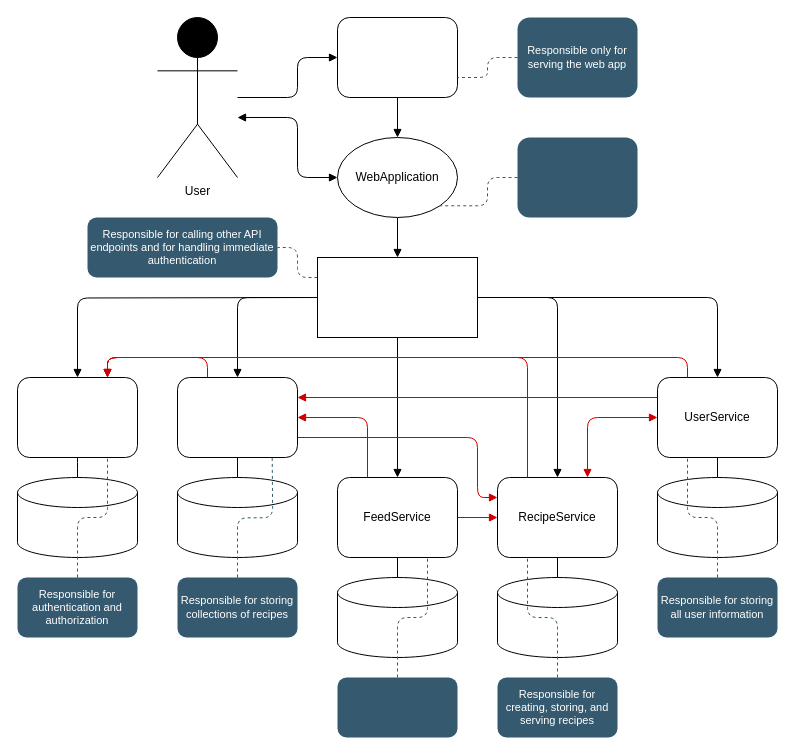
Image size: 795x755. Some labels were removed from this diagram. The shapes that lost their labels are listed below. From the top down, each one's centre as x and y in pixels, then its label:
At (397,57): "AppService".
At (577,177): "A GUI responsible for user experience and communicating with the API Gateway".
At (397,297): "API Gateway".
At (77,417): "AuthService".
At (237,417): "CookbookService".
At (397,707): "Responsible for serving recipes to users".
